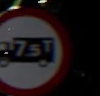Heavy Vehicles: (0, 6, 71, 95)
